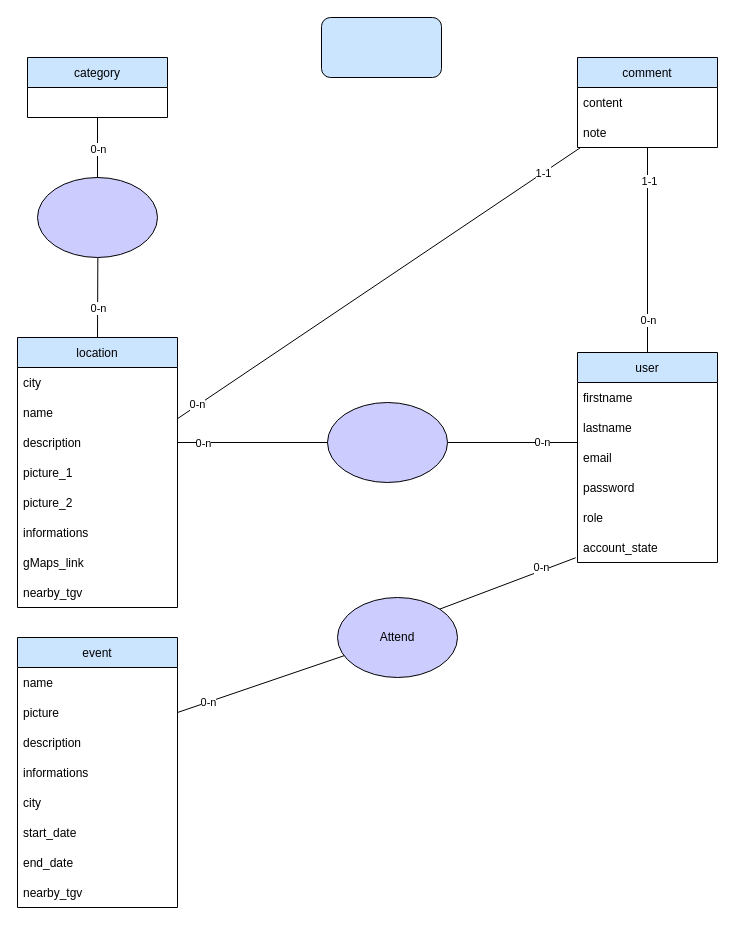
Image size: 735x925. Some labels were removed from this diagram. The shapes that lost their labels are listed below. From the top down, each one's centre as x and y in pixels, then its label:
(381,47): MCD
(97,217): Belong
(387,442): Visit
